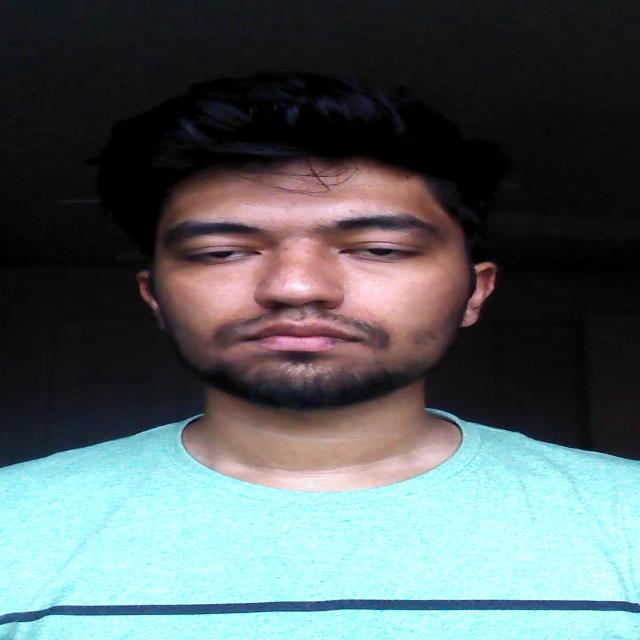Eyeclosed: (340, 235, 419, 267), (180, 238, 255, 270)
